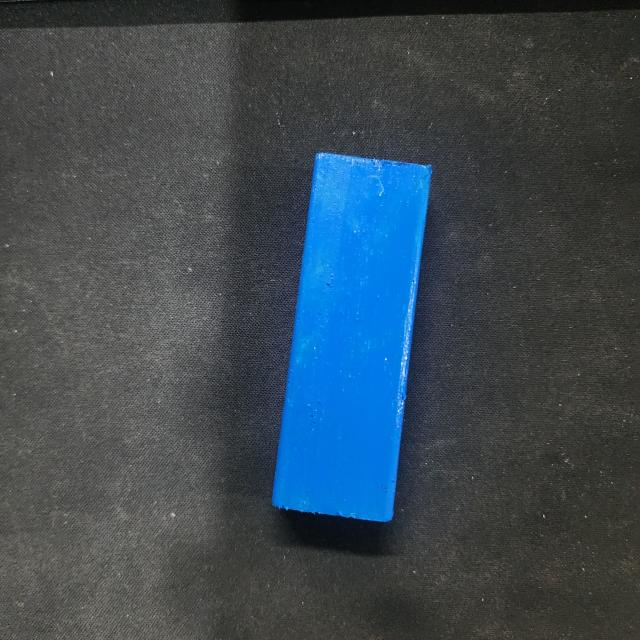blue: (270, 153, 434, 522)
